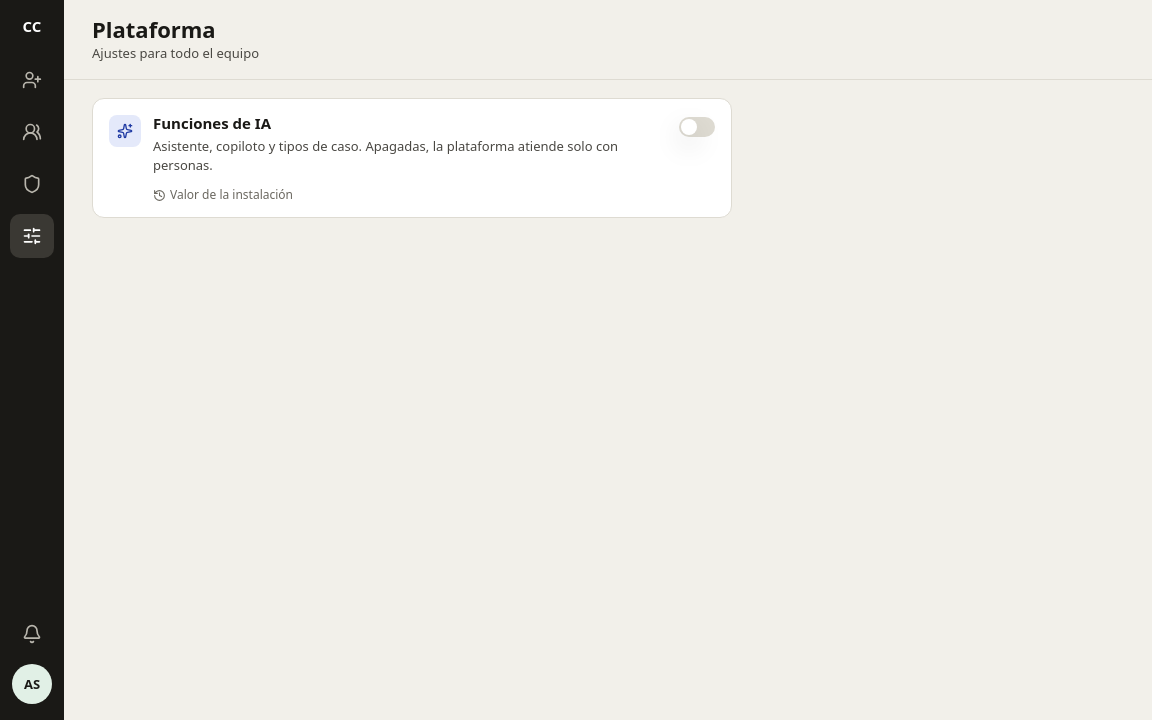
Test: the UI language preference › goes back to Spanish and says so when the change cannot be saved
The image size is (1152, 720).
Expected: the heading "Plataforma" is shown, [92,14,216,44]
Click the button with aria-label "cambiar de rol": (32, 684) [12,664,52,704]
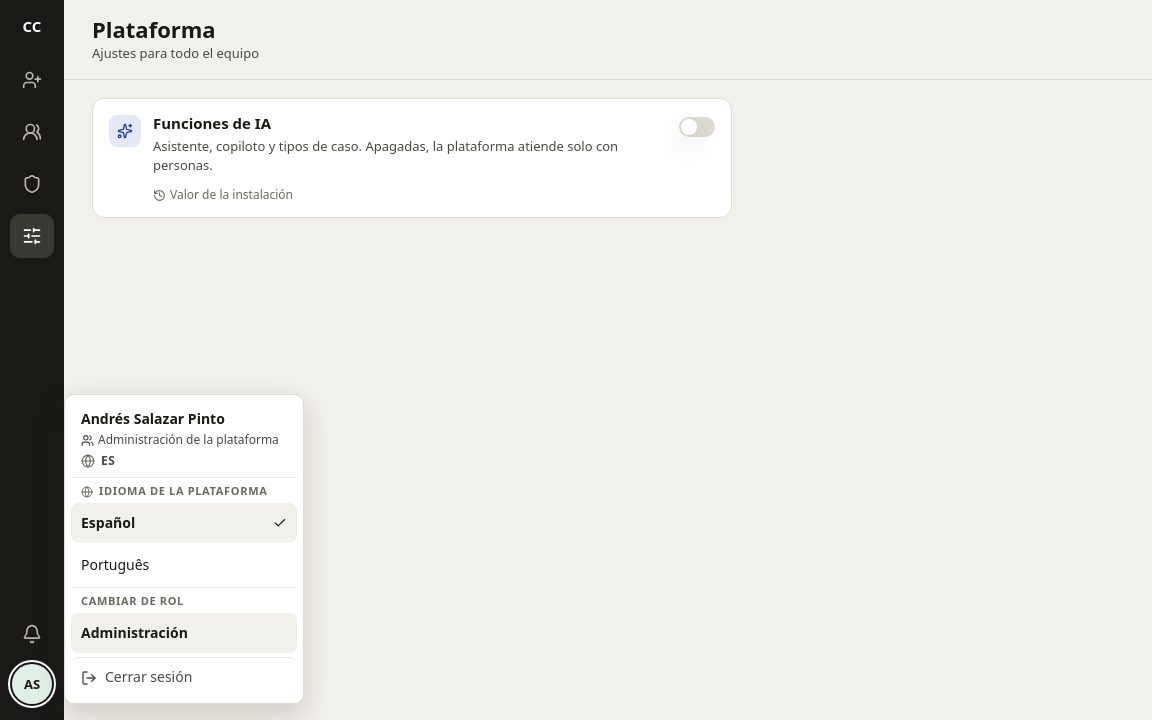
Click the button "Português": (184, 565) [71,545,297,585]
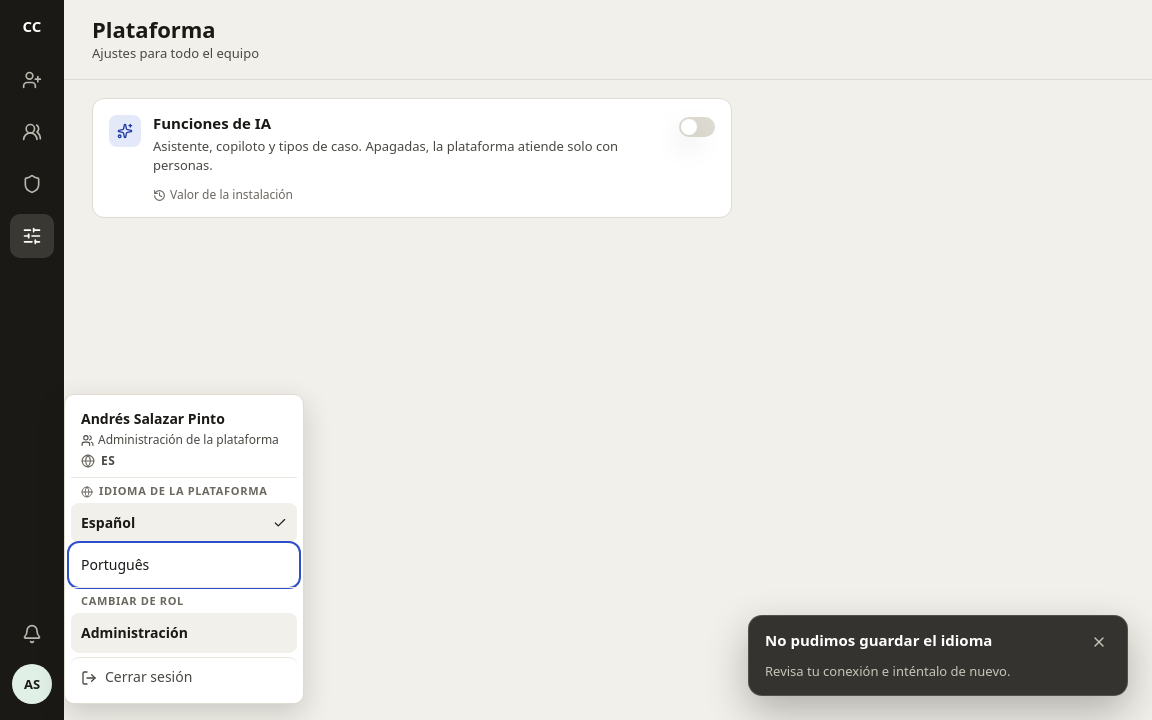
Expected: the link named "Usuarios y roles" is shown, [22,70,42,90]
Expected: the text "No pudimos guardar el idioma" is shown, [765,630,1010,652]
